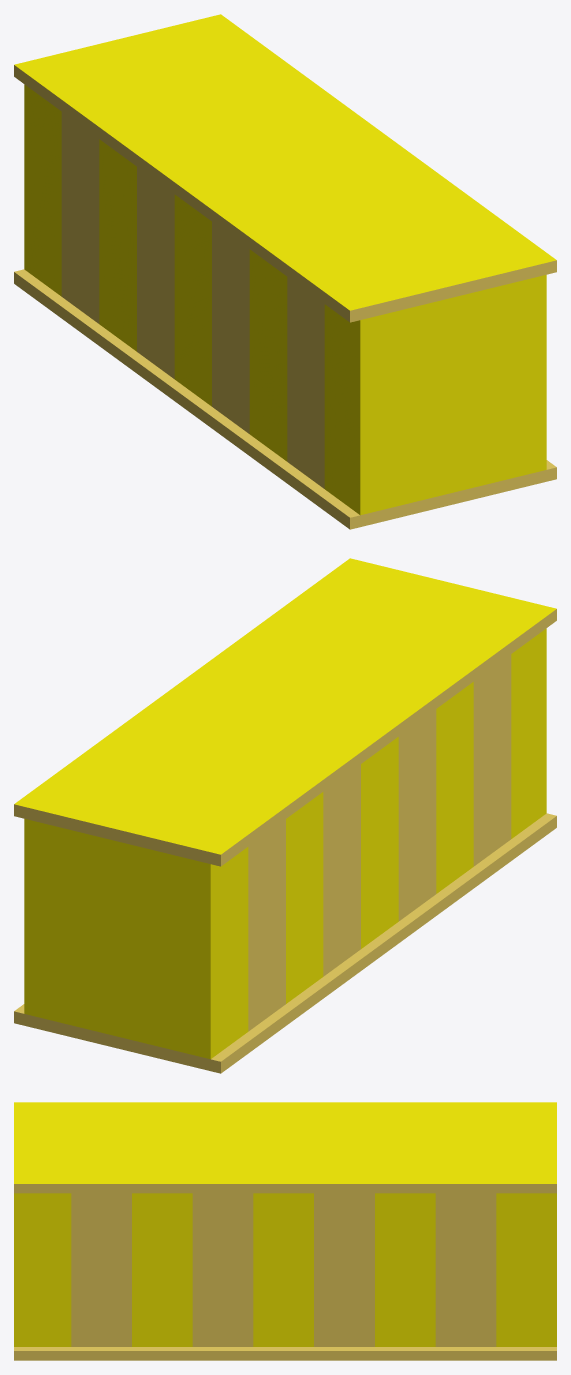
The model's file is ShippingContainerAYellow.fbx.
3 renders of one model, top to bottom at view 1: azimuth 30°, elevation 25°; view 2: azimuth 150°, elevation 25°; view 3: azimuth 270°, elevation 25°, orthographic. The views are drawn at different scales.
Parts seen in each view (by area): view 1: ShippingContainerAYellow; view 2: ShippingContainerAYellow; view 3: ShippingContainerAYellow.
Part boxes in pixels (left/top/right/bottom): ShippingContainerAYellow: left=14, top=14, right=556, bottom=529; ShippingContainerAYellow: left=14, top=558, right=556, bottom=1073; ShippingContainerAYellow: left=14, top=1102, right=556, bottom=1360.
Size of the model in its own units: 170 by 172 by 479.
1 material, 1 textured.
